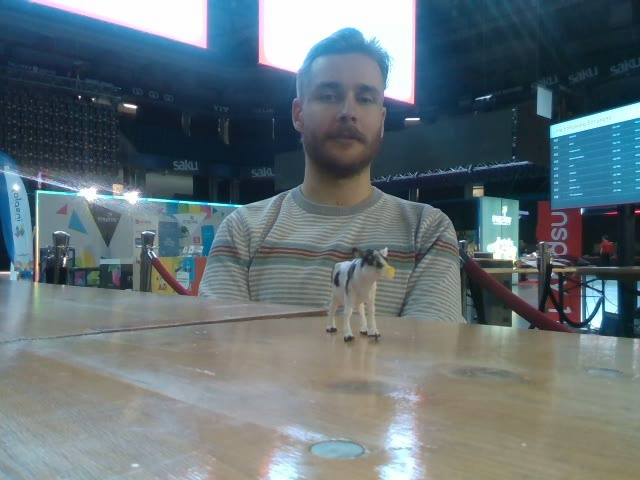toy: (326, 246, 397, 342)
